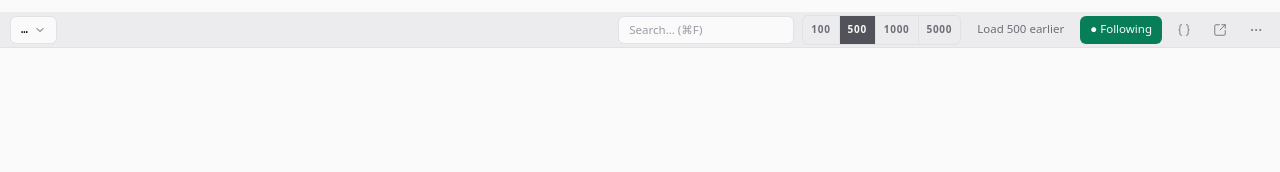
LogToolbar search › shows the match count after debounce and navigates with Enter/Shift+Enter
Type "alpha" into the field with placeholder "Search… (⌘F)" at x=706, y=30, box [618, 16, 794, 44]
Wait 160 ms
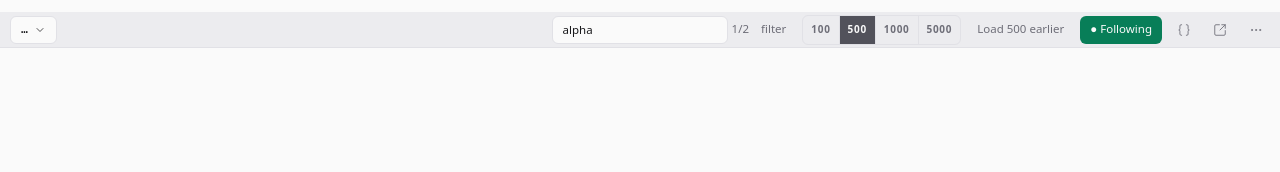
expect the text "1/2" is shown: met, box [732, 21, 749, 38]
Press Enter in the field with placeholder "Search… (⌘F)", box [552, 16, 728, 44]
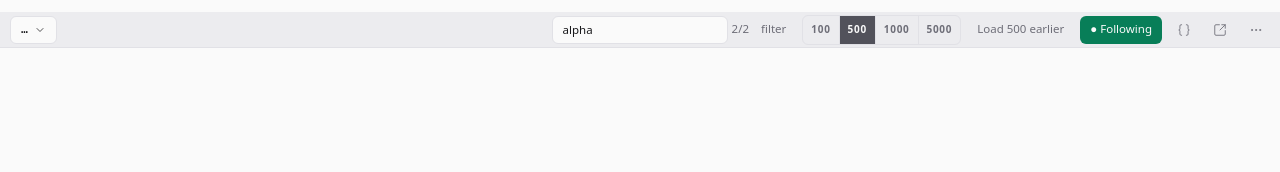
expect the text "2/2" is shown: met, box [732, 21, 749, 38]
Press Enter in the field with placeholder "Search… (⌘F)", box [552, 16, 728, 44]
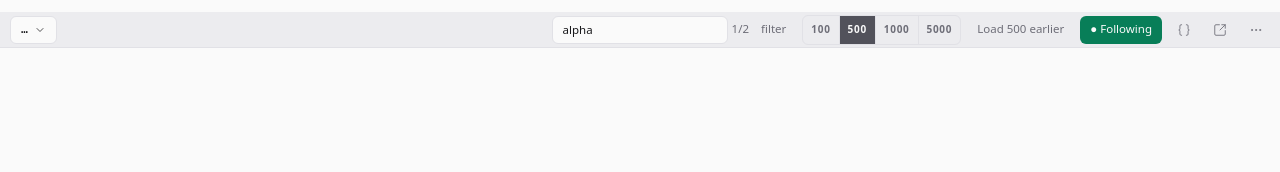
expect the text "1/2" is shown: met, box [732, 21, 749, 38]
